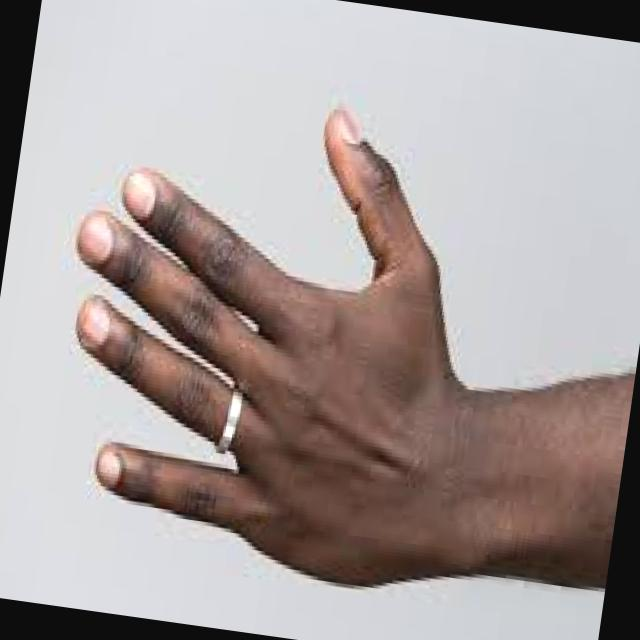Hand: (24, 52, 497, 604)
